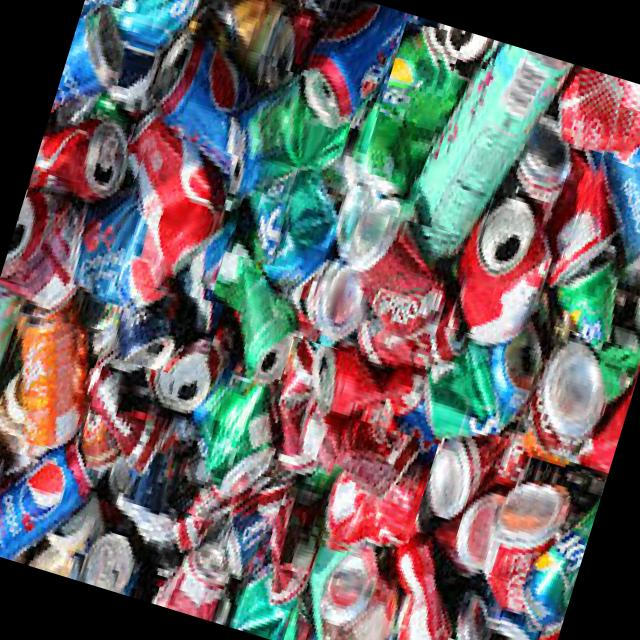Cans: (397, 30, 536, 272), (321, 206, 460, 389), (479, 457, 605, 640), (129, 23, 275, 175), (302, 414, 437, 570), (354, 17, 462, 206), (111, 127, 238, 270), (552, 100, 640, 306), (451, 191, 565, 339), (369, 547, 542, 640), (101, 274, 223, 404), (0, 302, 105, 451), (233, 62, 359, 184), (224, 154, 340, 280), (174, 356, 288, 478), (192, 250, 299, 378), (296, 0, 404, 126), (0, 167, 103, 298), (258, 334, 358, 468), (520, 324, 624, 452), (75, 352, 184, 474), (125, 502, 231, 618), (32, 96, 152, 198), (57, 0, 162, 110), (420, 320, 538, 410), (0, 447, 82, 565), (266, 540, 368, 628), (66, 496, 147, 594), (218, 468, 286, 580), (85, 0, 209, 26)
